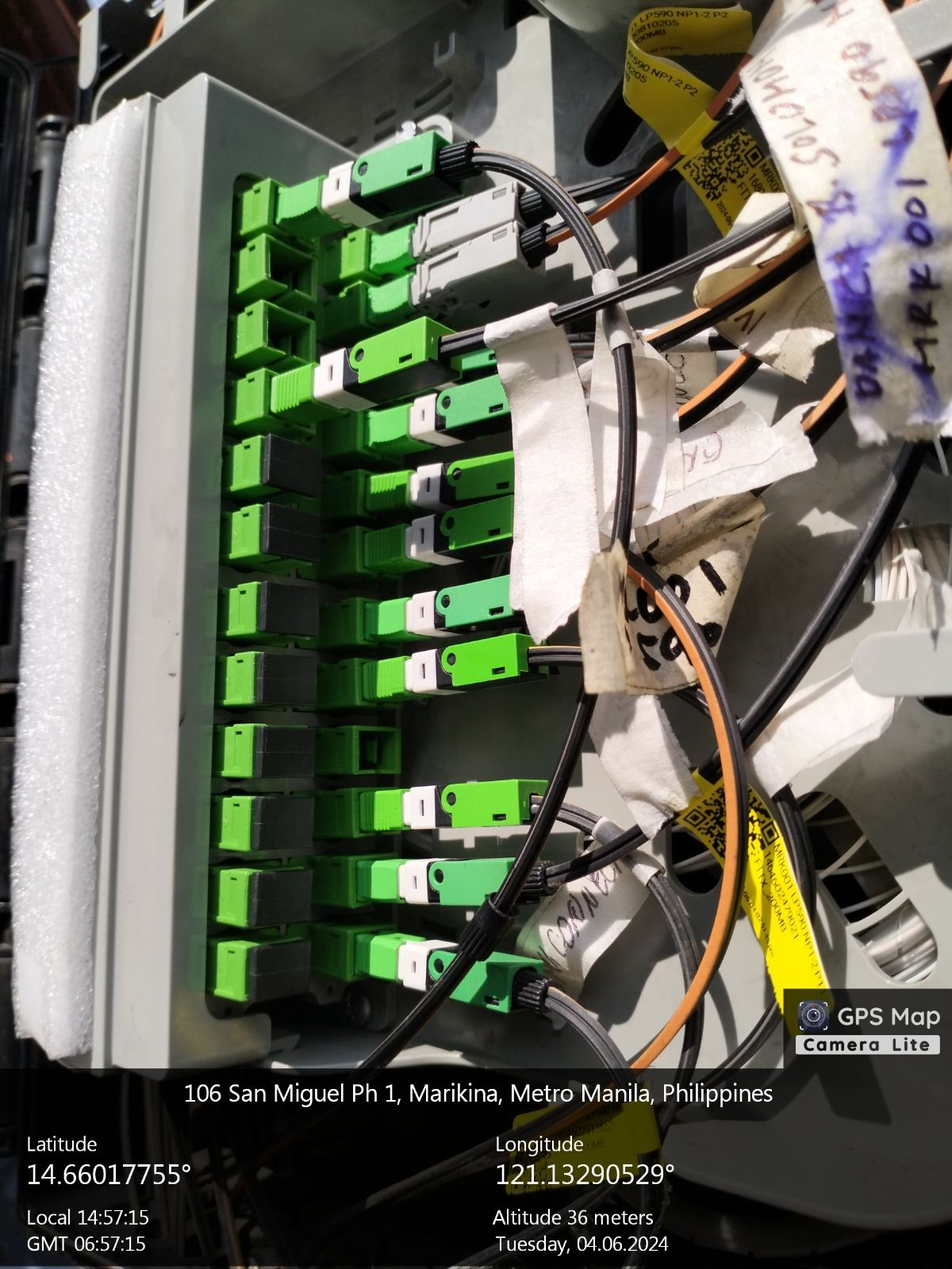no dust cap: (262, 301, 316, 367), (265, 235, 318, 300), (353, 727, 402, 776)
occupied: (367, 206, 571, 324), (264, 304, 475, 413), (274, 119, 490, 225), (363, 350, 588, 447), (366, 165, 568, 272), (358, 478, 583, 572), (351, 936, 578, 1025), (358, 557, 582, 646), (356, 315, 571, 402), (362, 435, 595, 509), (358, 625, 565, 706), (353, 771, 567, 834), (353, 857, 568, 906)
vacant: (262, 432, 323, 494), (262, 499, 323, 561), (258, 575, 319, 637), (248, 942, 312, 998), (255, 728, 317, 780), (251, 873, 313, 925), (257, 653, 319, 704), (253, 799, 315, 850)
